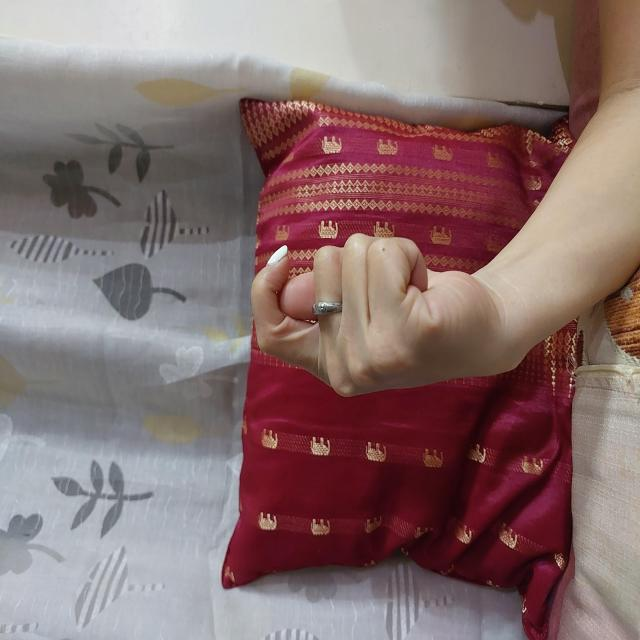T: (239, 248, 411, 503)
